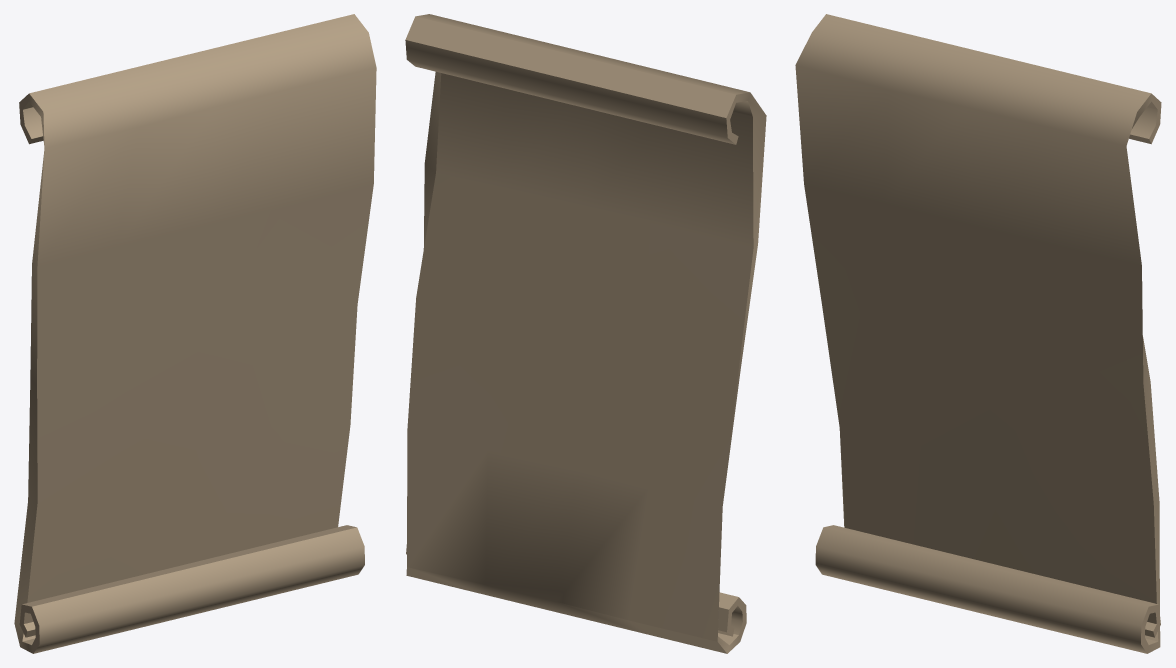
The model's file is spell_unrolled.gltf.
The picture shows the model from 3 angles, left to right: view 1: azimuth 30°, elevation 25°; view 2: azimuth 150°, elevation 25°; view 3: azimuth 330°, elevation 25°; orthographic projection.
Parts seen in each view (by area): view 1: Cube.001; view 2: Cube.001; view 3: Cube.001.
Part boxes in pixels (x1=…): Cube.001: x1=14, y1=14, x2=376, y2=653; Cube.001: x1=405, y1=14, x2=766, y2=653; Cube.001: x1=795, y1=14, x2=1161, y2=653.
Size of the model in its own units: 0.4081 by 0.6466 by 0.0861.
1 material, 1 textured.
